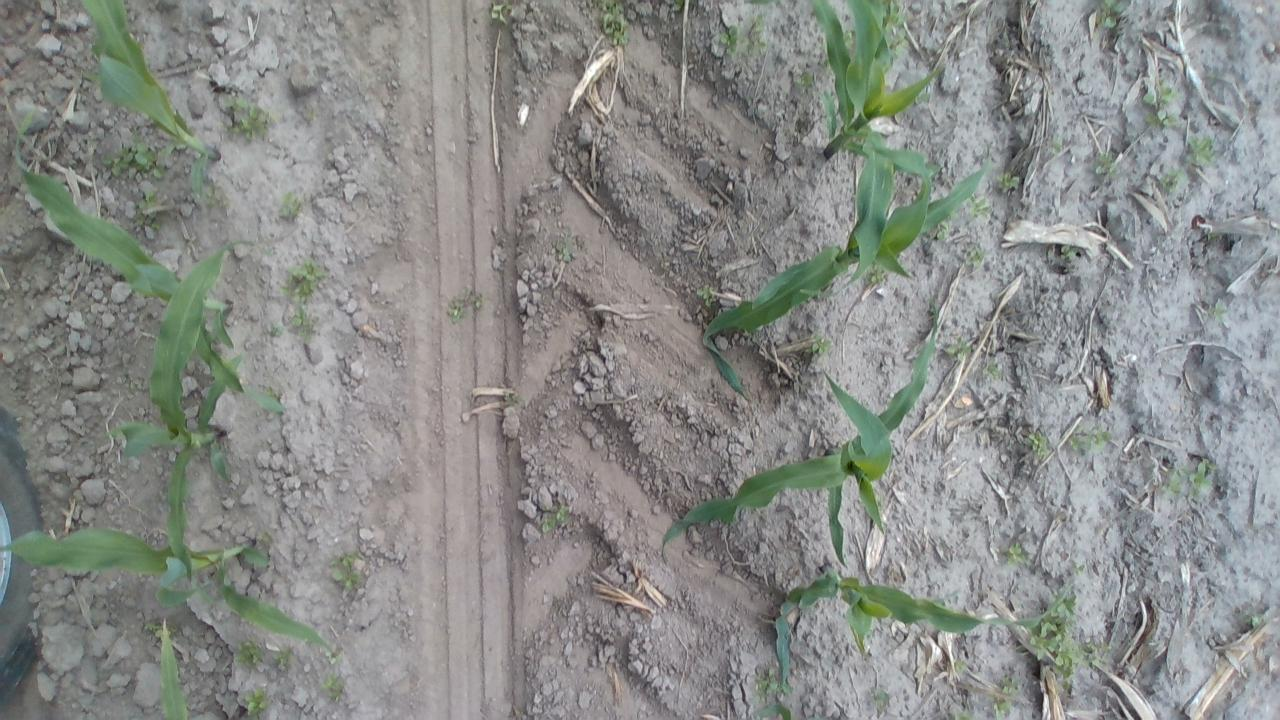Maize: (6, 107, 286, 418), (656, 284, 950, 572), (696, 142, 996, 410), (111, 229, 285, 584), (751, 559, 1080, 720), (0, 518, 342, 656), (810, 0, 944, 291), (67, 0, 219, 208), (155, 616, 190, 718), (742, 0, 782, 4)
Weeds: (220, 93, 282, 142), (1028, 594, 1076, 656), (103, 140, 164, 176), (1140, 79, 1182, 131), (278, 258, 327, 302), (597, 0, 631, 48), (331, 548, 366, 594), (992, 673, 1024, 716), (447, 285, 484, 322), (1070, 426, 1114, 457), (132, 190, 165, 229), (754, 668, 787, 704), (1188, 457, 1218, 494), (1187, 132, 1218, 166), (538, 504, 569, 535), (882, 18, 906, 58), (1082, 636, 1112, 668), (288, 307, 316, 341), (1053, 644, 1078, 682), (1098, 0, 1124, 34), (280, 188, 309, 218), (1024, 428, 1050, 461), (744, 18, 768, 53), (236, 640, 264, 670), (882, 0, 907, 33), (1091, 150, 1119, 178), (243, 690, 270, 718), (945, 336, 973, 362), (719, 24, 740, 56), (808, 332, 836, 356), (557, 236, 581, 264), (966, 195, 994, 219), (694, 282, 718, 310), (1160, 471, 1184, 497), (204, 184, 230, 208), (324, 669, 344, 700), (1158, 168, 1186, 190), (1238, 608, 1266, 629), (996, 171, 1020, 195), (872, 686, 894, 712), (490, 1, 516, 22), (931, 218, 954, 240), (968, 248, 993, 268), (1006, 543, 1029, 564), (145, 618, 169, 638), (792, 68, 814, 89), (1208, 300, 1227, 324), (274, 646, 294, 668), (118, 374, 138, 394), (1058, 246, 1078, 266), (982, 359, 1001, 380), (868, 266, 887, 286), (946, 707, 977, 719), (262, 384, 285, 400), (254, 528, 274, 546), (502, 391, 522, 408), (266, 320, 282, 340), (300, 104, 316, 124), (952, 660, 971, 675), (1048, 135, 1063, 154), (666, 0, 684, 15), (1204, 228, 1220, 243), (659, 258, 674, 273), (326, 651, 342, 665), (1072, 562, 1086, 577)
